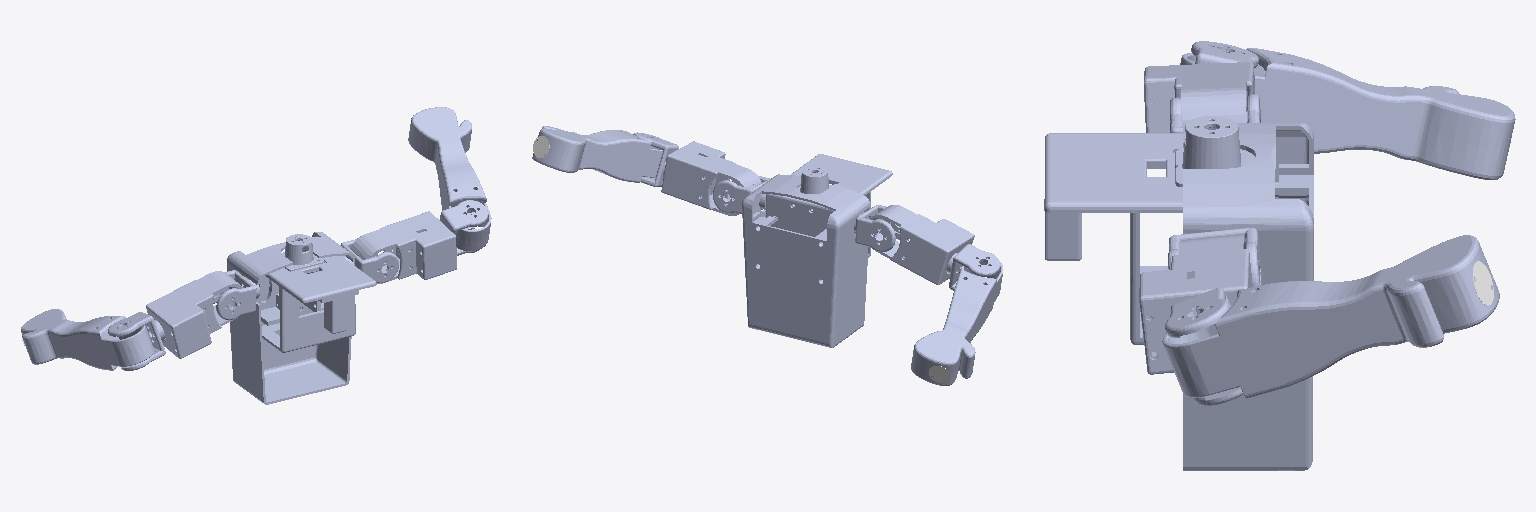
The robot description file, URDF, robot "flov2tag":
<?xml version="1.0" encoding="utf-8" ?>
<!-- This URDF was automatically created by SolidWorks to URDF Exporter! Originally created by [author] ([email redacted]) 
     Commit Version: 1.6.0-4-g7f85cfe  Build Version: 1.6.7995.38578
     For more information, please see http://wiki.ros.org/sw_urdf_exporter -->
<robot name="flov2tag">
    <link name="world" />
    <joint name="base_joint" type="fixed">
        <parent link="world" />
        <child link="base_link" />
        <origin rpy="0 0 0" xyz="0.0 0.0 0.0" />
    </joint>
    <link name="base_link">
        <inertial>
            <origin xyz="7.53347513647862E-05 -0.0517564322706769 0.103083105603625" rpy="0 0 0" />
            <mass value="0.411096920186486" />
            <inertia ixx="0.000777346761704768" ixy="1.72546357053517E-06" ixz="3.18573945326137E-07" iyy="0.000809189457749476" iyz="4.70818433093878E-05" izz="0.000628127608082685" />
        </inertial>
        <visual>
            <origin xyz="0 0 0" rpy="0 0 0" />
            <geometry>
                <mesh filename="package://flov2tag/meshes/base_link.STL" />
            </geometry>
            <material name="">
                <color rgba="0.792156862745098 0.819607843137255 0.933333333333333 1" />
            </material>
        </visual>
        <collision>
            <origin xyz="0 0 0" rpy="0 0 0" />
            <geometry>
                <mesh filename="package://flov2tag/meshes/base_link.STL" />
            </geometry>
        </collision>
    </link>
    <link name="L1">
        <inertial>
            <origin xyz="1.48905722474613E-09 -1.45844988863608E-09 -0.0155738461318574" rpy="0 0 0" />
            <mass value="0.0215352043212417" />
            <inertia ixx="6.43260429128133E-06" ixy="-1.64918315675543E-11" ixz="1.80617855631626E-13" iyy="1.14424316265306E-05" iyz="-1.4977169211401E-13" izz="8.50517912691032E-06" />
        </inertial>
        <visual>
            <origin xyz="0 0 0" rpy="0 0 0" />
            <geometry>
                <mesh filename="package://flov2tag/meshes/L1.STL" />
            </geometry>
            <material name="">
                <color rgba="0.792156862745098 0.819607843137255 0.933333333333333 1" />
            </material>
        </visual>
        <collision>
            <origin xyz="0 0 0" rpy="0 0 0" />
            <geometry>
                <mesh filename="package://flov2tag/meshes/L1.STL" />
            </geometry>
        </collision>
    </link>
    <joint name="l1" type="revolute">
        <origin xyz="-0.093804 -0.050968 0.1305" rpy="-1.5732 -0.04937 1.5699" />
        <parent link="base_link" />
        <child link="L1" />
        <axis xyz="0 0 -1" />
        <limit lower="-3.14" upper="3.14" effort="100" velocity="1" />
    </joint>
    <link name="L2">
        <inertial>
            <origin xyz="0.0370794722770472 6.01619796232744E-05 -0.00561150495180869" rpy="0 0 0" />
            <mass value="0.14200428130742" />
            <inertia ixx="3.19807041640019E-05" ixy="-4.35443153481225E-08" ixz="2.24405152482658E-06" iyy="6.16420914340457E-05" iyz="9.75980531415953E-10" izz="6.84742357959681E-05" />
        </inertial>
        <visual>
            <origin xyz="0 0 0" rpy="0 0 0" />
            <geometry>
                <mesh filename="package://flov2tag/meshes/L2.STL" />
            </geometry>
            <material name="">
                <color rgba="0.792156862745098 0.819607843137255 0.933333333333333 1" />
            </material>
        </visual>
        <collision>
            <origin xyz="0 0 0" rpy="0 0 0" />
            <geometry>
                <mesh filename="package://flov2tag/meshes/L2.STL" />
            </geometry>
        </collision>
    </link>
    <joint name="l2" type="revolute">
        <origin xyz="0 0 0" rpy="1.57079632679491 -1.30823648462815 1.57079632679489" />
        <parent link="L1" />
        <child link="L2" />
        <axis xyz="0 0 -1" />
        <limit lower="-3.14" upper="3.14" effort="100" velocity="1" />
    </joint>
    <link name="L3">
        <inertial>
            <origin xyz="-6.85686452062129E-10 -1.18321497044604E-09 -0.0155738461320077" rpy="0 0 0" />
            <mass value="0.0215352058948494" />
            <inertia ixx="6.43260450990738E-06" ixy="-1.66741513524277E-11" ixz="-1.99406870351107E-13" iyy="1.14424319738705E-05" iyz="-5.43220634835429E-14" izz="8.50517954548888E-06" />
        </inertial>
        <visual>
            <origin xyz="0 0 0" rpy="0 0 0" />
            <geometry>
                <mesh filename="package://flov2tag/meshes/L3.STL" />
            </geometry>
            <material name="">
                <color rgba="0.792156862745098 0.819607843137255 0.933333333333333 1" />
            </material>
        </visual>
        <collision>
            <origin xyz="0 0 0" rpy="0 0 0" />
            <geometry>
                <mesh filename="package://flov2tag/meshes/L3.STL" />
            </geometry>
        </collision>
    </link>
    <joint name="l3" type="revolute">
        <origin xyz="0.1158 0 -0.00119999999999776" rpy="-1.5707963267949 0.26114885650053 -1.57079632679489" />
        <parent link="L2" />
        <child link="L3" />
        <axis xyz="0 0 -1" />
        <limit lower="-3.14" upper="3.14" effort="100" velocity="1" />
    </joint>
    <link name="L4">
        <inertial>
            <origin xyz="0.0540116223479984 -0.00058620478941096 -0.00011406572389161" rpy="0 0 0" />
            <mass value="0.123994710978818" />
            <inertia ixx="2.55225739121218E-05" ixy="5.69764188850555E-06" ixz="1.26677524651344E-09" iyy="0.000227685871332109" iyz="7.44244239048614E-10" izz="0.000244795391460618" />
        </inertial>
        <visual>
            <origin xyz="0 0 0" rpy="0 0 0" />
            <geometry>
                <mesh filename="package://flov2tag/meshes/L4.STL" />
            </geometry>
            <material name="">
                <color rgba="0.792156862745098 0.819607843137255 0.933333333333333 1" />
            </material>
        </visual>
        <collision>
            <origin xyz="0 0 0" rpy="0 0 0" />
            <geometry>
                <mesh filename="package://flov2tag/meshes/L4.STL" />
            </geometry>
        </collision>
    </link>
    <joint name="l4" type="revolute">
        <origin xyz="0 0 0" rpy="1.5707963267949 -0.30296623022798 -1.5707963267949" />
        <parent link="L3" />
        <child link="L4" />
        <axis xyz="0 0 1" />
        <limit lower="-3.14" upper="3.14" effort="100" velocity="1" />
    </joint>
    <link name="LT">
        <inertial>
            <origin xyz="-2.1094237467878E-15 3.66373598126302E-15 -4.99999999999251E-05" rpy="0 0 0" />
            <mass value="4.4257186507448E-05" />
            <inertia ixx="1.59291210005991E-09" ixy="4.71238898038435E-11" ixz="2.08733857698928E-24" iyy="1.565423164341E-09" iyz="3.43796942092352E-24" izz="3.1582615024234E-09" />
        </inertial>
        <visual>
            <origin xyz="0 0 0" rpy="0 0 0" />
            <geometry>
                <mesh filename="package://flov2tag/meshes/LT.STL" />
            </geometry>
            <material name="">
                <color rgba="1 1 1 1" />
            </material>
        </visual>
        <collision>
            <origin xyz="0 0 0" rpy="0 0 0" />
            <geometry>
                <mesh filename="package://flov2tag/meshes/LT.STL" />
            </geometry>
        </collision>
    </link>
    <joint name="lt" type="revolute">
        <origin xyz="0.16084 0 0" rpy="1.5708 0 1.5708" />
        <parent link="L4" />
        <child link="LT" />
        <axis xyz="0 0 -1" />
        <limit lower="-3.14" upper="3.14" effort="100" velocity="1" />
    </joint>
    <link name="R1">
        <inertial>
            <origin xyz="-7.3101036335288E-10 1.42214115483874E-09 -0.0155738461008337" rpy="0 0 0" />
            <mass value="0.0215352046092187" />
            <inertia ixx="6.43260432556565E-06" ixy="-1.67886054370398E-11" ixz="2.25506499780031E-15" iyy="1.14424316815474E-05" iyz="1.67144531263641E-13" izz="8.50517918879637E-06" />
        </inertial>
        <visual>
            <origin xyz="0 0 0" rpy="0 0 0" />
            <geometry>
                <mesh filename="package://flov2tag/meshes/R1.STL" />
            </geometry>
            <material name="">
                <color rgba="0.792156862745098 0.819607843137255 0.933333333333333 1" />
            </material>
        </visual>
        <collision>
            <origin xyz="0 0 0" rpy="0 0 0" />
            <geometry>
                <mesh filename="package://flov2tag/meshes/R1.STL" />
            </geometry>
        </collision>
    </link>
    <joint name="r1" type="revolute">
        <origin xyz="0.09279510924547 -0.0511557438776884 0.131033556238334" rpy="1.56837759398057 -0.109836205757756 1.5700568280532" />
        <parent link="base_link" />
        <child link="R1" />
        <axis xyz="0 0 -1" />
        <limit lower="-3.14" upper="3.14" effort="100" velocity="1" />
    </joint>
    <link name="R2">
        <inertial>
            <origin xyz="0.0370794698343928 6.01703938903075E-05 -0.00521151070552417" rpy="0 0 0" />
            <mass value="0.142004353704167" />
            <inertia ixx="3.19807296486965E-05" ixy="-4.35327533669279E-08" ixz="2.24405237078302E-06" iyy="6.16421075611623E-05" iyz="9.81607943199515E-10" izz="6.84742805487049E-05" />
        </inertial>
        <visual>
            <origin xyz="0 0 0" rpy="0 0 0" />
            <geometry>
                <mesh filename="package://flov2tag/meshes/R2.STL" />
            </geometry>
            <material name="">
                <color rgba="0.792156862745098 0.819607843137255 0.933333333333333 1" />
            </material>
        </visual>
        <collision>
            <origin xyz="0 0 0" rpy="0 0 0" />
            <geometry>
                <mesh filename="package://flov2tag/meshes/R2.STL" />
            </geometry>
        </collision>
    </link>
    <joint name="r2" type="revolute">
        <origin xyz="0 0 0" rpy="1.57079632679491 -1.47144508321867 1.57079632679488" />
        <parent link="R1" />
        <child link="R2" />
        <axis xyz="0 0 -1" />
        <limit lower="-3.14" upper="3.14" effort="100" velocity="1" />
    </joint>
    <link name="R3">
        <inertial>
            <origin xyz="2.05074301984354E-09 5.46313924654207E-10 -0.0155738455006264" rpy="0 0 0" />
            <mass value="0.0215352048399659" />
            <inertia ixx="6.432604168036E-06" ixy="-1.66648027588443E-11" ixz="6.81152760309558E-14" iyy="1.14424315919614E-05" iyz="-4.79486622218707E-14" izz="8.5051789959427E-06" />
        </inertial>
        <visual>
            <origin xyz="0 0 0" rpy="0 0 0" />
            <geometry>
                <mesh filename="package://flov2tag/meshes/R3.STL" />
            </geometry>
            <material name="">
                <color rgba="0.792156862745098 0.819607843137255 0.933333333333333 1" />
            </material>
        </visual>
        <collision>
            <origin xyz="0 0 0" rpy="0 0 0" />
            <geometry>
                <mesh filename="package://flov2tag/meshes/R3.STL" />
            </geometry>
        </collision>
    </link>
    <joint name="r3" type="revolute">
        <origin xyz="0.115800000000001 0 -0.000800000000004408" rpy="1.5707963267949 -0.26114885650053 1.5707963267949" />
        <parent link="R2" />
        <child link="R3" />
        <axis xyz="0 0 -1" />
        <limit lower="-3.14" upper="3.14" effort="100" velocity="1" />
    </joint>
    <link name="R4">
        <inertial>
            <origin xyz="0.0540120901541251 0.000585955138703967 0.000114212206980158" rpy="0 0 0" />
            <mass value="0.123994478571995" />
            <inertia ixx="2.55222563136458E-05" ixy="-5.697433497379E-06" ixz="-1.15541189210634E-09" iyy="0.000227685021295983" iyz="5.41220980799628E-10" izz="0.000244794757521387" />
        </inertial>
        <visual>
            <origin xyz="0 0 0" rpy="0 0 0" />
            <geometry>
                <mesh filename="package://flov2tag/meshes/R4.STL" />
            </geometry>
            <material name="">
                <color rgba="0.792156862745098 0.819607843137255 0.933333333333333 1" />
            </material>
        </visual>
        <collision>
            <origin xyz="0 0 0" rpy="0 0 0" />
            <geometry>
                <mesh filename="package://flov2tag/meshes/R4.STL" />
            </geometry>
        </collision>
    </link>
    <joint name="r4" type="revolute">
        <origin xyz="0 0 0" rpy="-1.5707963267949 -0.302966230227995 1.5707963267949" />
        <parent link="R3" />
        <child link="R4" />
        <axis xyz="0 0 1" />
        <limit lower="-3.14" upper="3.14" effort="100" velocity="1" />
    </joint>
    <link name="RT">
        <inertial>
            <origin xyz="-1.12505491034476E-14 -3.88578058618805E-16 -5.00000000000778E-05" rpy="0 0 0" />
            <mass value="4.4257186507449E-05" />
            <inertia ixx="1.59291210005995E-09" ixy="-4.71238898038503E-11" ixz="8.7605212335328E-25" iyy="1.56542316434104E-09" iyz="5.84196307615576E-24" izz="3.15826150242347E-09" />
        </inertial>
        <visual>
            <origin xyz="0 0 0" rpy="0 0 0" />
            <geometry>
                <mesh filename="package://flov2tag/meshes/RT.STL" />
            </geometry>
            <material name="">
                <color rgba="1 1 1 1" />
            </material>
        </visual>
        <collision>
            <origin xyz="0 0 0" rpy="0 0 0" />
            <geometry>
                <mesh filename="package://flov2tag/meshes/RT.STL" />
            </geometry>
        </collision>
    </link>
    <joint name="rt" type="revolute">
        <origin xyz="0.16084 0 0" rpy="-1.5708 0 -1.5708" />
        <parent link="R4" />
        <child link="RT" />
        <axis xyz="0 0 -1" />
        <limit lower="-3.14" upper="3.14" effort="100" velocity="1" />
    </joint>
    <transmission name="L1_trans">
        <type>transmission_interface/SimpleTransmission</type>
        <joint name="l1">
            <hardwareInterface>hardware_interface/PositionJointInterface</hardwareInterface>
        </joint>
        <actuator name="L1_motor">
            <hardwareInterface>hardware_interface/PositionJointInterface</hardwareInterface>
            <mechanicalReduction>1</mechanicalReduction>
        </actuator>
    </transmission>
    <transmission name="L2_trans">
        <type>transmission_interface/SimpleTransmission</type>
        <joint name="l2">
            <hardwareInterface>hardware_interface/PositionJointInterface</hardwareInterface>
        </joint>
        <actuator name="L2_motor">
            <hardwareInterface>hardware_interface/PositionJointInterface</hardwareInterface>
            <mechanicalReduction>1</mechanicalReduction>
        </actuator>
    </transmission>
    <transmission name="L3_trans">
        <type>transmission_interface/SimpleTransmission</type>
        <joint name="l3">
            <hardwareInterface>hardware_interface/PositionJointInterface</hardwareInterface>
        </joint>
        <actuator name="L3_motor">
            <hardwareInterface>hardware_interface/PositionJointInterface</hardwareInterface>
            <mechanicalReduction>1</mechanicalReduction>
        </actuator>
    </transmission>
    <transmission name="L4_trans">
        <type>transmission_interface/SimpleTransmission</type>
        <joint name="l4">
            <hardwareInterface>hardware_interface/PositionJointInterface</hardwareInterface>
        </joint>
        <actuator name="L4_motor">
            <hardwareInterface>hardware_interface/PositionJointInterface</hardwareInterface>
            <mechanicalReduction>1</mechanicalReduction>
        </actuator>
    </transmission>
    <transmission name="R1_trans">
        <type>transmission_interface/SimpleTransmission</type>
        <joint name="r1">
            <hardwareInterface>hardware_interface/PositionJointInterface</hardwareInterface>
        </joint>
        <actuator name="R1_motor">
            <hardwareInterface>hardware_interface/PositionJointInterface</hardwareInterface>
            <mechanicalReduction>1</mechanicalReduction>
        </actuator>
    </transmission>
    <transmission name="R2_trans">
        <type>transmission_interface/SimpleTransmission</type>
        <joint name="r2">
            <hardwareInterface>hardware_interface/PositionJointInterface</hardwareInterface>
        </joint>
        <actuator name="R2_motor">
            <hardwareInterface>hardware_interface/PositionJointInterface</hardwareInterface>
            <mechanicalReduction>1</mechanicalReduction>
        </actuator>
    </transmission>
    <transmission name="R3_trans">
        <type>transmission_interface/SimpleTransmission</type>
        <joint name="r3">
            <hardwareInterface>hardware_interface/PositionJointInterface</hardwareInterface>
        </joint>
        <actuator name="R3_motor">
            <hardwareInterface>hardware_interface/PositionJointInterface</hardwareInterface>
            <mechanicalReduction>1</mechanicalReduction>
        </actuator>
    </transmission>
    <transmission name="R4_trans">
        <type>transmission_interface/SimpleTransmission</type>
        <joint name="r4">
            <hardwareInterface>hardware_interface/PositionJointInterface</hardwareInterface>
        </joint>
        <actuator name="R4_motor">
            <hardwareInterface>hardware_interface/PositionJointInterface</hardwareInterface>
            <mechanicalReduction>1</mechanicalReduction>
        </actuator>
    </transmission>
    <transmission name="RT_trans">
        <type>transmission_interface/SimpleTransmission</type>
        <joint name="rt">
            <hardwareInterface>hardware_interface/PositionJointInterface</hardwareInterface>
        </joint>
        <actuator name="RT_motor">
            <hardwareInterface>hardware_interface/PositionJointInterface</hardwareInterface>
            <mechanicalReduction>1</mechanicalReduction>
        </actuator>
    </transmission>
    <transmission name="LT_trans">
        <type>transmission_interface/SimpleTransmission</type>
        <joint name="lt">
            <hardwareInterface>hardware_interface/PositionJointInterface</hardwareInterface>
        </joint>
        <actuator name="LT_motor">
            <hardwareInterface>hardware_interface/PositionJointInterface</hardwareInterface>
            <mechanicalReduction>1</mechanicalReduction>
        </actuator>
    </transmission>
    <gazebo>
        <plugin name="control" filename="libgazebo_ros_control.so">
            <robotNamespace>/</robotNamespace>
        </plugin>
        <plugin name="gazebo_ros_control" filename="libgazebo_ros_control.so">
            <robotNamespace>/</robotNamespace>
        </plugin>
    </gazebo>
    <gazebo reference="L1">
        <selfCollide>true</selfCollide>
    </gazebo>
    <gazebo reference="L2">
        <selfCollide>true</selfCollide>
    </gazebo>
    <gazebo reference="L3">
        <selfCollide>true</selfCollide>
    </gazebo>
    <gazebo reference="L4">
        <selfCollide>true</selfCollide>
    </gazebo>
    <gazebo reference="R1">
        <selfCollide>true</selfCollide>
    </gazebo>
    <gazebo reference="R2">
        <selfCollide>true</selfCollide>
    </gazebo>
    <gazebo reference="R3">
        <selfCollide>true</selfCollide>
    </gazebo>
    <gazebo reference="R4">
        <selfCollide>true</selfCollide>
    </gazebo>
    <gazebo reference="RT">
        <selfCollide>true</selfCollide>
    </gazebo>
    <gazebo reference="LT">
        <selfCollide>true</selfCollide>
    </gazebo>
</robot>

--- What the picture shows (computed from the rendered views, not written in the file) ---
The picture shows the robot from 3 angles, left to right: view 1: azimuth 30°, elevation 25°; view 2: azimuth 150°, elevation 25°; view 3: azimuth 270°, elevation 25°; orthographic projection.
Model flov2tag with 12 links and 11 joints (10 revolute, 1 fixed), rooted at world, posed every joint at zero.
Links seen in each view (by area): view 1: base_link, L4, R4, R2, L2, L1, L3, R3, R1; view 2: base_link, L4, R4, L2, R2, L1, L3, R1, R3; view 3: base_link, R4, L4, R2, L2, R3, R1, L3, L1, RT.
Link boxes in pixels (x1,y1,x2,y2): base_link: (227, 232, 376, 404); L4: (21, 309, 153, 370); R4: (408, 107, 491, 250); R2: (350, 211, 456, 283); L2: (146, 271, 243, 358); L1: (213, 270, 259, 319); L3: (108, 312, 165, 370); R3: (440, 200, 487, 255); R1: (341, 236, 398, 282); base_link: (742, 154, 892, 347); L4: (911, 262, 1002, 385); R4: (532, 126, 662, 182); L2: (869, 205, 974, 284); R2: (661, 141, 761, 215); L1: (854, 205, 899, 251); L3: (946, 244, 999, 290); R1: (713, 176, 769, 213); R3: (633, 132, 678, 186); base_link: (1044, 116, 1313, 470); R4: (1162, 235, 1499, 397); L4: (1180, 48, 1515, 179); R2: (1139, 235, 1252, 374); L2: (1144, 62, 1254, 132); R3: (1165, 288, 1242, 405); R1: (1168, 228, 1262, 286); L3: (1191, 41, 1258, 67); L1: (1170, 94, 1260, 132); RT: (1473, 261, 1493, 305).
Bounding box of the posed robot: 0.5406 × 0.247 × 0.2184 m (x, y, z).
Meshes: 11 distinct files referenced, 11 mesh visuals loaded (11 binary STL).